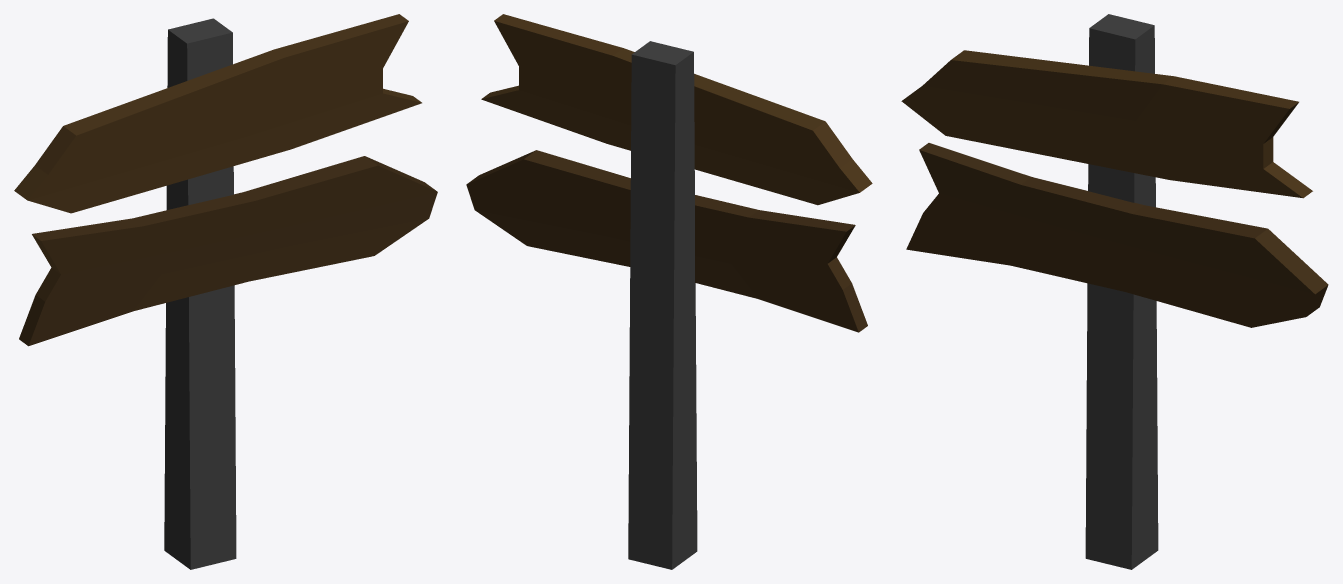
Rendered from arrows_indicator.glb.
The picture shows the model from 3 angles, left to right: view 1: azimuth 30°, elevation 25°; view 2: azimuth 150°, elevation 25°; view 3: azimuth 330°, elevation 25°; orthographic projection. The views are drawn at different scales.
Visible parts, largest first — view 1: arrow1, arrow2, piquet; view 2: piquet, arrow1, arrow2; view 3: arrow1, arrow2, piquet.
Part boxes in pixels (x1,y1,x2,y2): arrow1: (19,156,437,346); arrow2: (14,14,421,213); piquet: (164,18,236,569); piquet: (628,41,697,569); arrow1: (466,150,867,332); arrow2: (481,14,872,205); arrow1: (906,143,1328,327); arrow2: (901,50,1312,198); piquet: (1085,14,1158,569).
Bounding box in the file's own units: 2.31 × 2.82 × 0.3522.
1 material, 1 textured.
